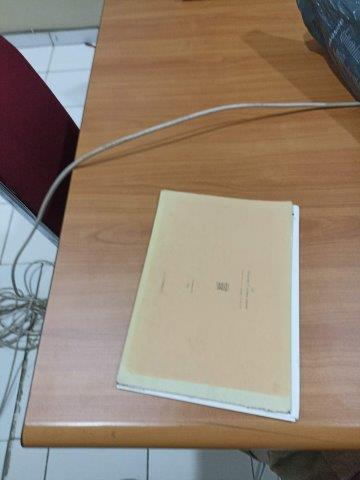kertas: (116, 189, 300, 422)
